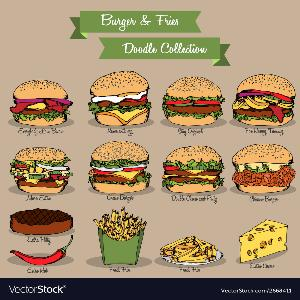cheeseburger_475cal: (15, 74, 73, 139)
